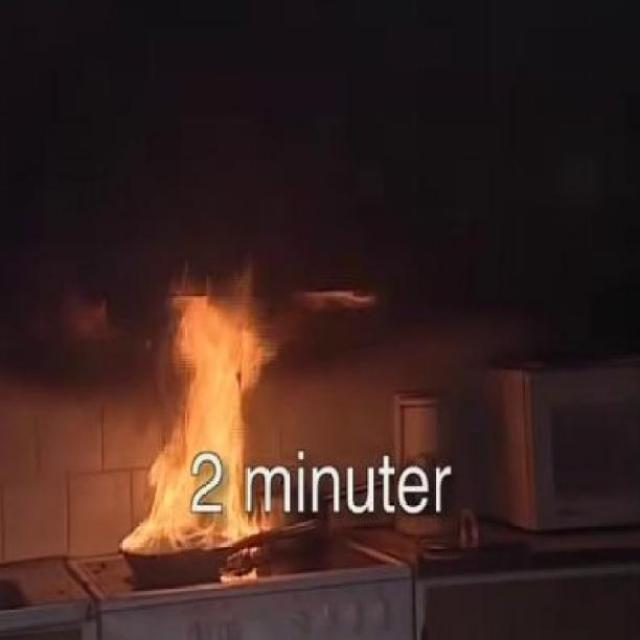smoke: (117, 282, 270, 554)
